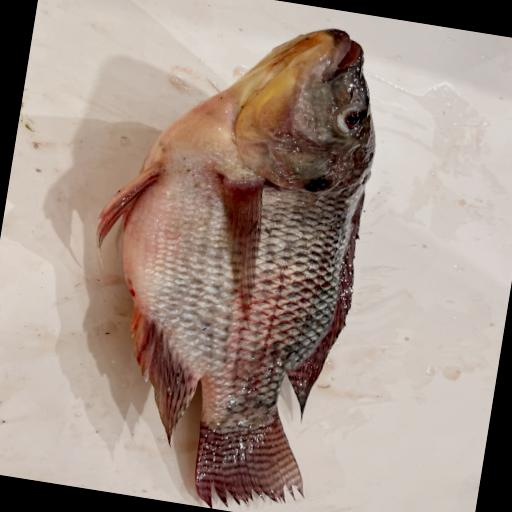Tilapia: (55, 0, 393, 512)
